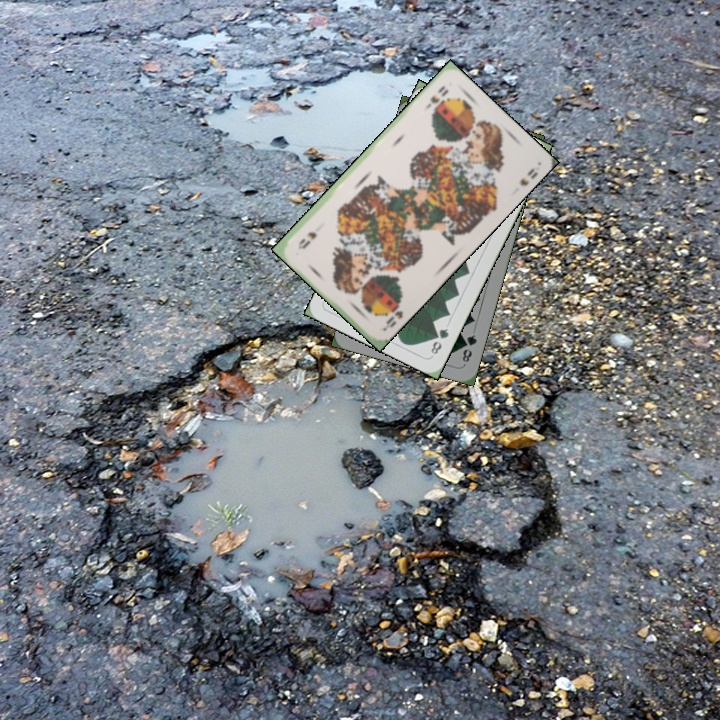G8: (427, 324, 451, 358), (458, 330, 480, 365)
SO: (379, 295, 406, 333), (421, 82, 451, 112)
